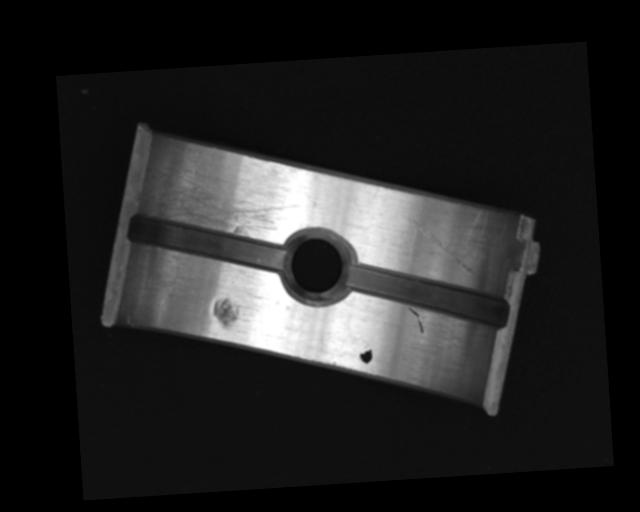blot: (358, 343, 373, 365)
bruise: (211, 295, 242, 329)
gap: (347, 255, 509, 338), (126, 205, 290, 281)
hole: (279, 226, 354, 305)
nick: (407, 210, 478, 281), (408, 305, 424, 336)
scratch: (134, 156, 305, 245)
